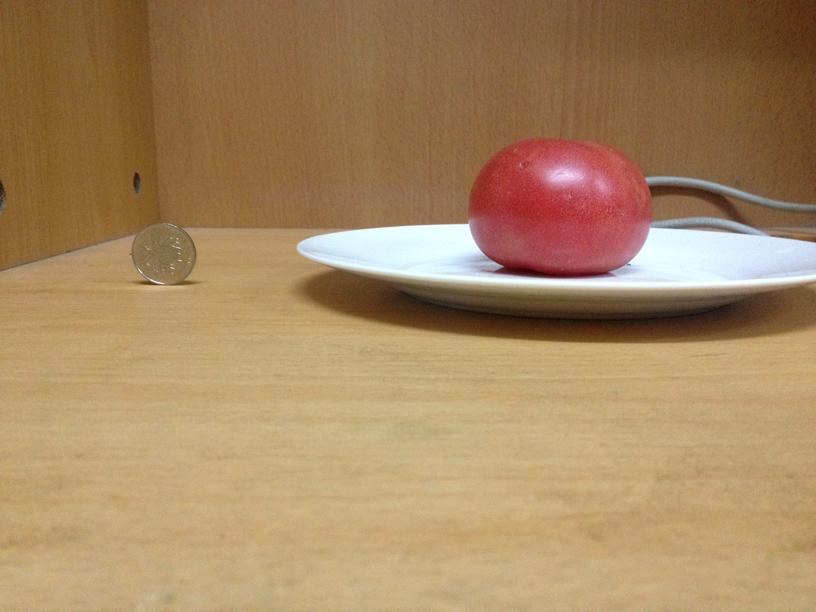coin: (127, 223, 200, 285)
tomato: (464, 135, 656, 276)
